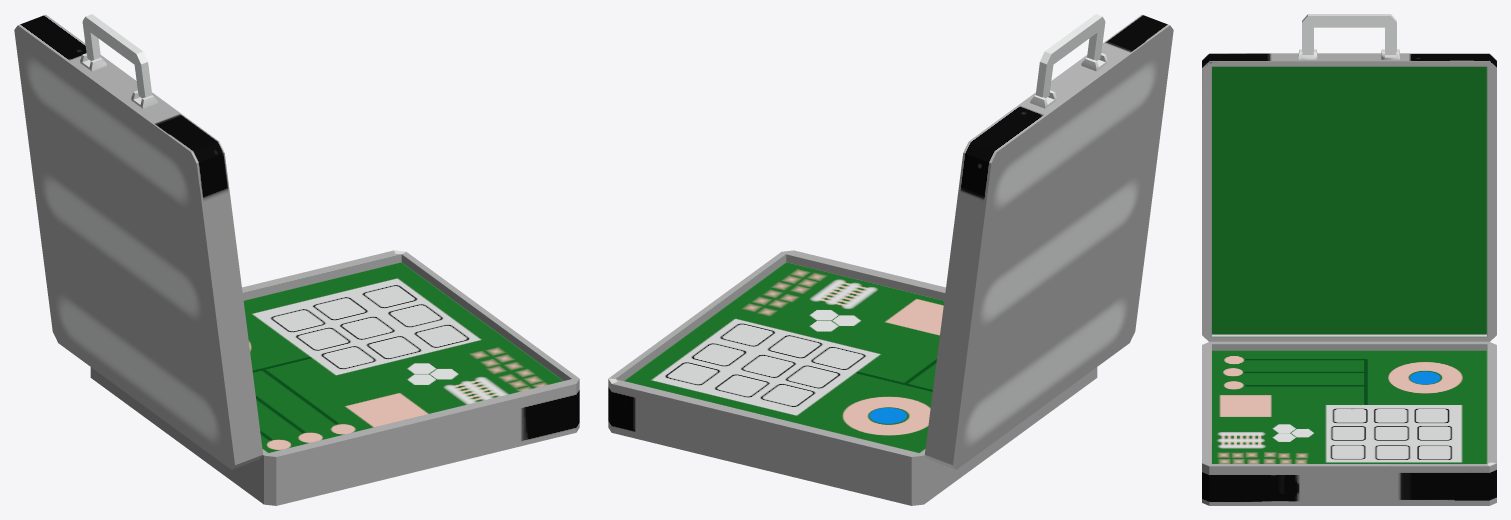
The model's file is Case.fbx.
The picture shows the model from 3 angles, left to right: view 1: azimuth 30°, elevation 25°; view 2: azimuth 150°, elevation 25°; view 3: azimuth 270°, elevation 25°; orthographic projection. The views are drawn at different scales.
Parts seen in each view (by area): view 1: case_2, case_1; view 2: case_2, case_1; view 3: case_2, case_1.
Part boxes in pixels (left/top/right/bottom): case_2: left=14, top=14, right=263, bottom=469; case_1: left=90, top=250, right=579, bottom=505; case_2: left=924, top=14, right=1173, bottom=469; case_1: left=608, top=250, right=1097, bottom=505; case_2: left=1202, top=14, right=1496, bottom=341; case_1: left=1202, top=341, right=1496, bottom=505.
Bounding box in the file's own units: 12.31 × 12.8 × 10.
Materials: 1 (1 with a texture image).
